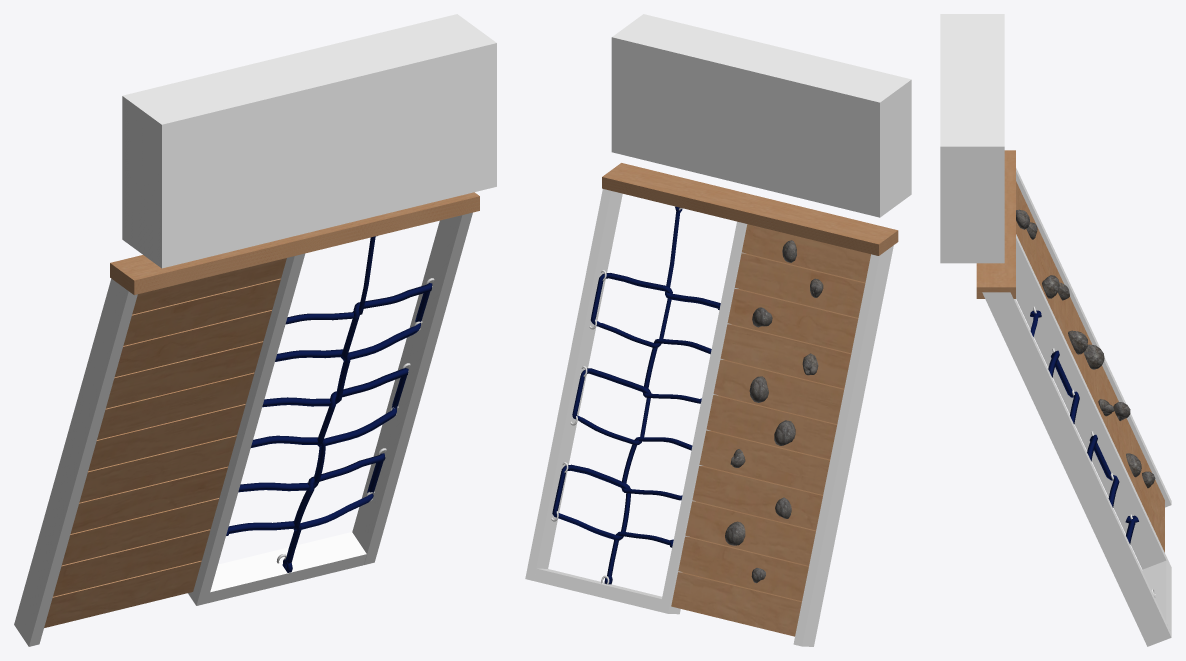
The picture shows the model from 3 angles, left to right: view 1: azimuth 30°, elevation 25°; view 2: azimuth 150°, elevation 25°; view 3: azimuth 270°, elevation 25°; orthographic projection. The views are drawn at different scales.
Parts seen in each view (by area): view 1: joint_c,0,6, Cube168, Cube168_1, Cube168_3; view 2: Cube168, joint_c,0,6, Cube168_1, Cube168_3, Cube168_4; view 3: Cube168_1, joint_c,0,6, Cube168, Cube168_4, Cube168_3.
Boxes of the visible parts, x1,y1,x2,y2 form: joint_c,0,6: [122, 14, 496, 268]; Cube168: [44, 192, 479, 627]; Cube168_1: [14, 212, 472, 646]; Cube168_3: [226, 236, 432, 572]; Cube168: [602, 163, 898, 636]; joint_c,0,6: [611, 14, 911, 217]; Cube168_1: [525, 189, 893, 646]; Cube168_3: [552, 206, 720, 584]; Cube168_4: [725, 240, 823, 583]; Cube168_1: [982, 168, 1171, 646]; joint_c,0,6: [940, 14, 1004, 263]; Cube168: [976, 150, 1164, 552]; Cube168_4: [1016, 209, 1155, 488]; Cube168_3: [1030, 310, 1138, 544].
Bounding box in the file's own units: 1.26 × 2.14 × 0.8984.
6 materials, 3 textured.
